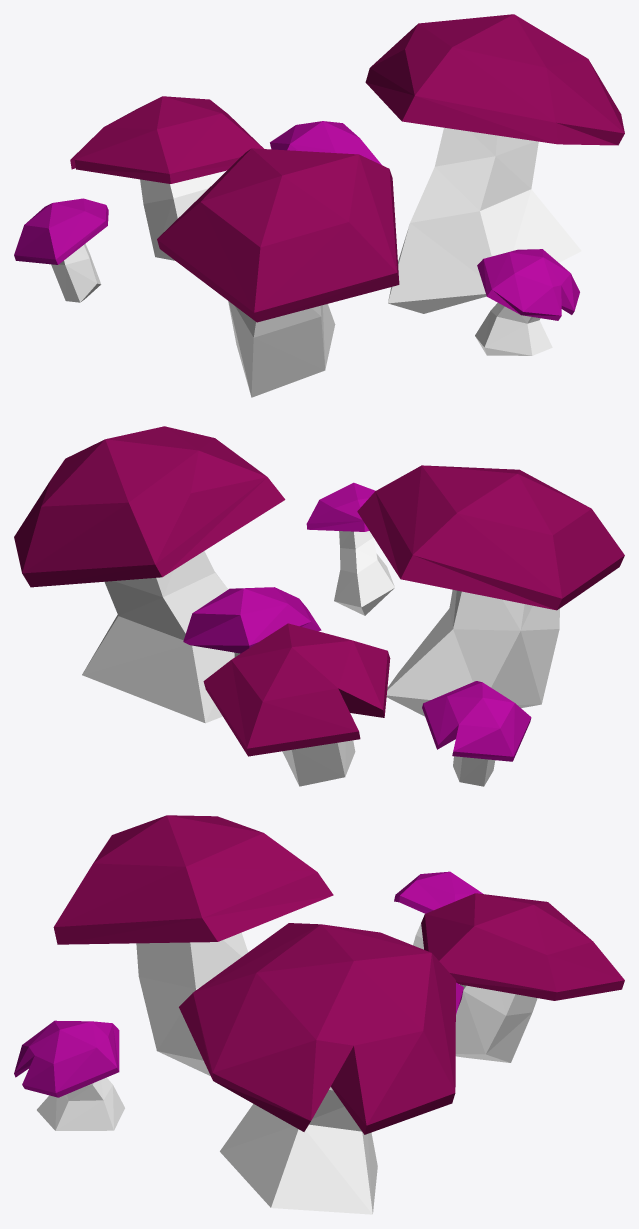
Rendered from mushroom.01.gltf.
The picture shows the model from 3 angles, top to bottom: view 1: azimuth 30°, elevation 25°; view 2: azimuth 150°, elevation 25°; view 3: azimuth 270°, elevation 25°; orthographic projection. The views are drawn at different scales.
Parts seen in each view (by area): view 1: Mushrooms.01; view 2: Mushrooms.01; view 3: Mushrooms.01.
Part boxes in pixels (x1,y1,x2,y2): Mushrooms.01: (14,14,624,397); Mushrooms.01: (14,426,624,786); Mushrooms.01: (14,815,624,1214).
Bounding box in the file's own units: 1.4 × 0.6264 × 1.28.
